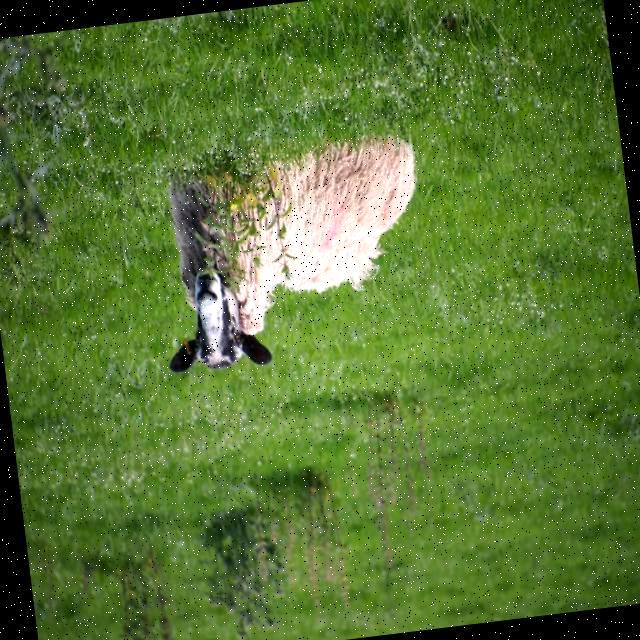sheep: (166, 135, 413, 371)
